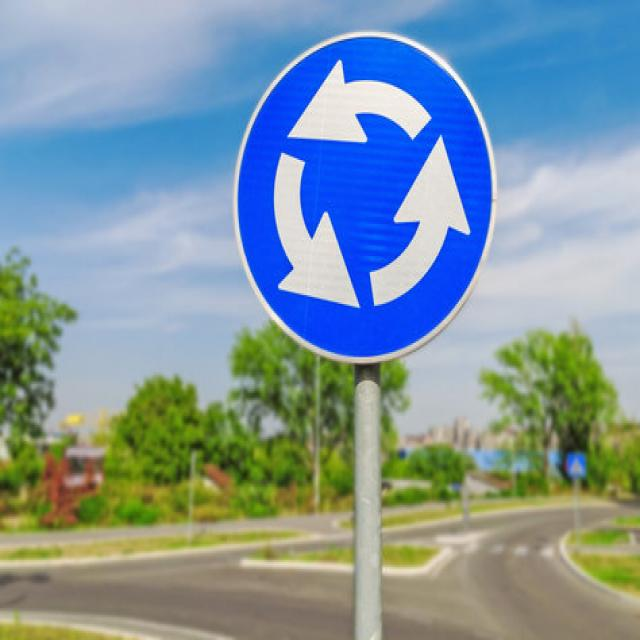roundabout: (229, 30, 497, 371)
